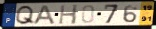0: (81, 4, 96, 24)
6: (122, 4, 138, 24)
7: (103, 4, 120, 25)
A: (31, 5, 56, 26)
H: (58, 4, 80, 25)
Q: (14, 5, 35, 26)
